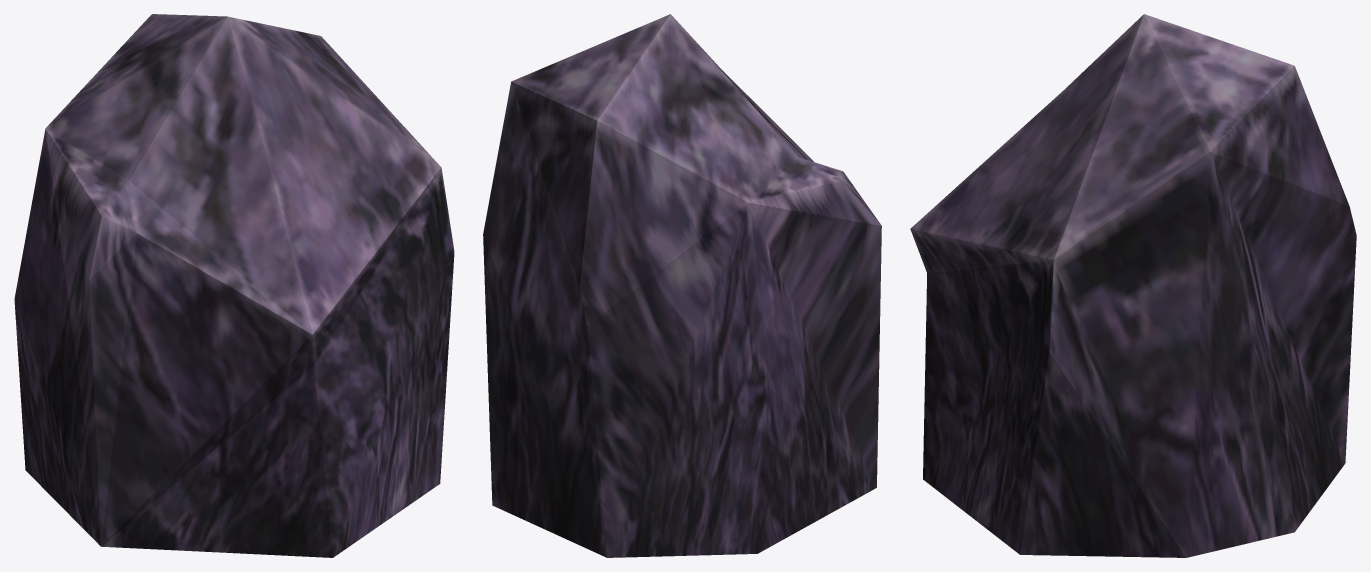
Rendered from C2SNOBSC.obj.
3 renders of one model, left to right at view 1: azimuth 30°, elevation 25°; view 2: azimuth 150°, elevation 25°; view 3: azimuth 270°, elevation 25°, orthographic.
Parts seen in each view (by area): view 1: Node 0; view 2: Node 0; view 3: Node 0.
Part boxes in pixels (x1,y1,x2,y2): Node 0: (14,14,454,557); Node 0: (483,14,881,557); Node 0: (910,14,1356,557).
Size of the model in its own units: 2.95 by 3.66 by 3.17.
Materials: 1 (1 with a texture image).
